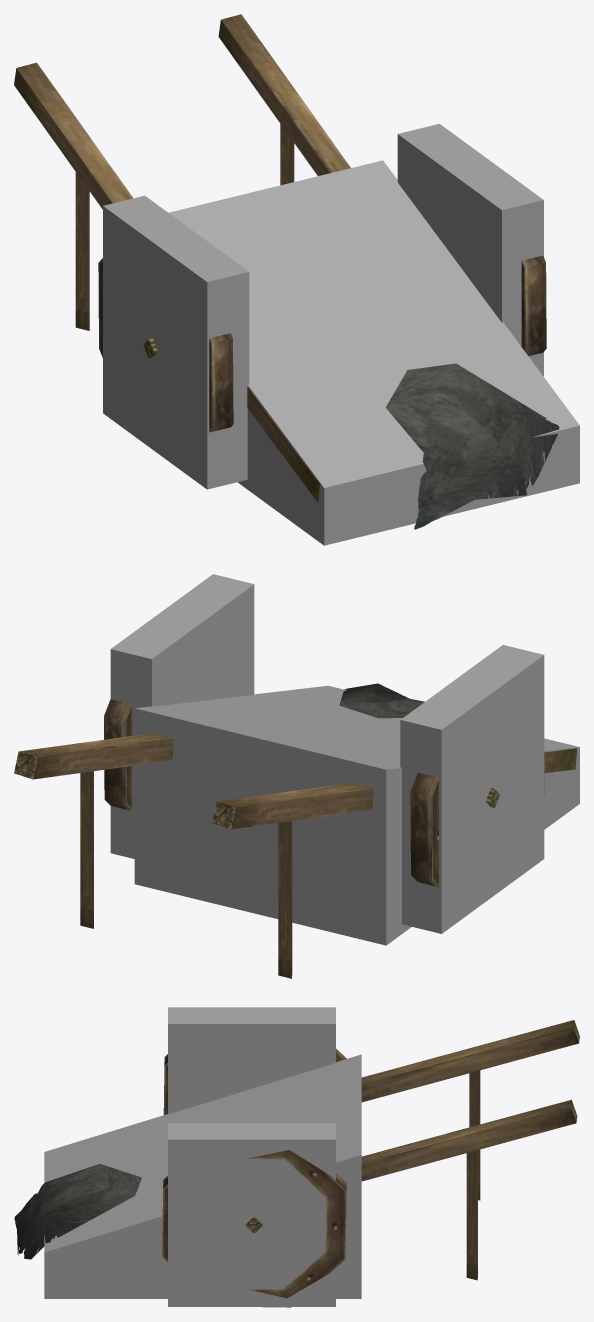
Rendered from banche_tyc_20.FBX.
3 views of the same model, one above another, from view 1: azimuth 30°, elevation 25°; view 2: azimuth 150°, elevation 25°; view 3: azimuth 270°, elevation 25° (orthographic). The views are drawn at different scales.
Visible parts, largest first — view 1: banche_tyc_11_collidor, banche_tyc_11; view 2: banche_tyc_11_collidor, banche_tyc_11; view 3: banche_tyc_11_collidor, banche_tyc_11.
Part boxes in pixels (x1,y1,x2,y2): banche_tyc_11_collidor: (103, 124, 579, 545); banche_tyc_11: (14, 14, 559, 529); banche_tyc_11_collidor: (110, 574, 579, 945); banche_tyc_11: (14, 683, 577, 978); banche_tyc_11_collidor: (44, 1007, 361, 1306); banche_tyc_11: (14, 1020, 579, 1307).
Bounding box in the file's own units: 138 × 89.05 × 243.
